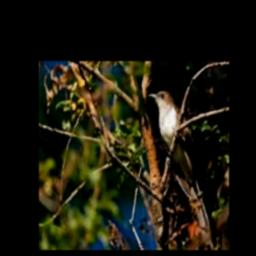Cuckoo: (149, 91, 210, 231)
